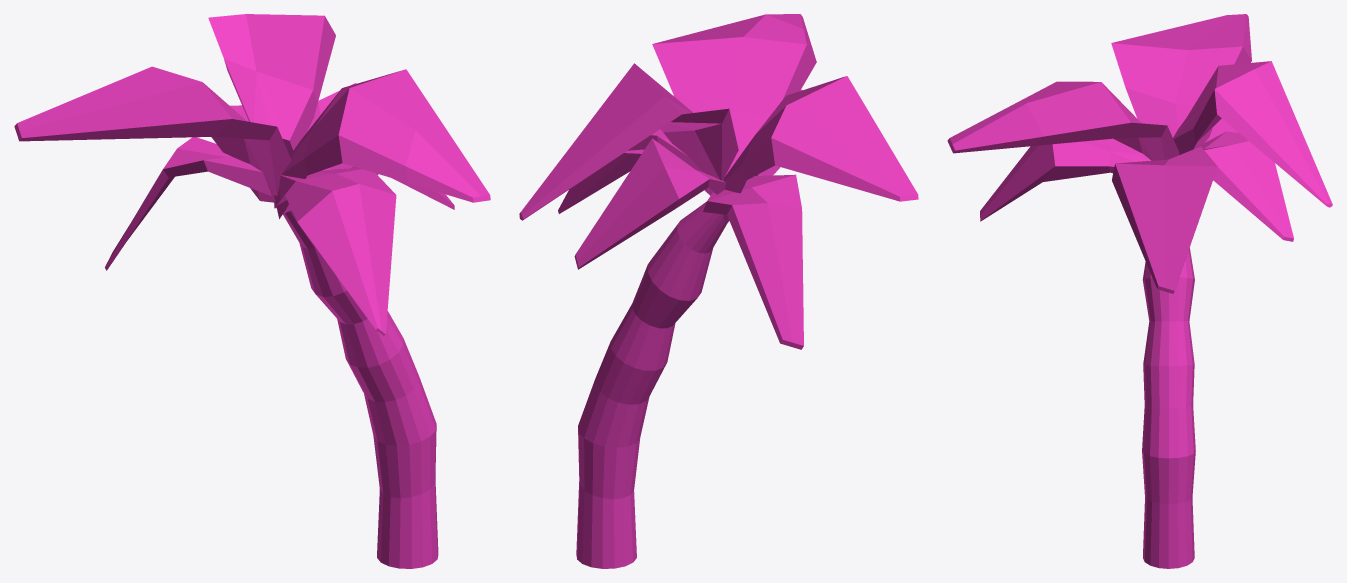
File: retro palmsTree.fbx
3 views of the same model, side by side, from view 1: azimuth 30°, elevation 25°; view 2: azimuth 150°, elevation 25°; view 3: azimuth 270°, elevation 25° (orthographic). The views are drawn at different scales.
Parts seen in each view (by area): view 1: palm, palm.002, palm.007, palm.005, palm.001, palm.003, palm.004; view 2: palm, palm.002, palm.007, palm.005, palm.003, palm.006, palm.004; view 3: palm, palm.007, palm.002, palm.005, palm.004, palm.001, palm.006.
Boxes of the visible parts, bbox=[...] form: palm: bbox=[283, 210, 438, 568]; palm.002: bbox=[274, 69, 490, 218]; palm.007: bbox=[14, 66, 291, 202]; palm.005: bbox=[208, 14, 335, 154]; palm.001: bbox=[274, 168, 396, 335]; palm.003: bbox=[105, 137, 271, 270]; palm.004: bbox=[283, 83, 454, 213]; palm: bbox=[576, 201, 726, 568]; palm.002: bbox=[652, 14, 816, 176]; palm.007: bbox=[723, 76, 918, 225]; palm.005: bbox=[519, 63, 738, 220]; palm.003: bbox=[703, 174, 803, 349]; palm.006: bbox=[574, 138, 725, 269]; palm.004: bbox=[558, 129, 712, 213]; palm: bbox=[1142, 247, 1195, 568]; palm.007: bbox=[1111, 14, 1251, 147]; palm.002: bbox=[947, 81, 1179, 160]; palm.005: bbox=[1173, 61, 1332, 207]; palm.004: bbox=[1112, 146, 1217, 293]; palm.001: bbox=[980, 138, 1150, 221]; palm.006: bbox=[1194, 131, 1293, 241].
Size of the model in its own units: 320 by 410 by 321.
